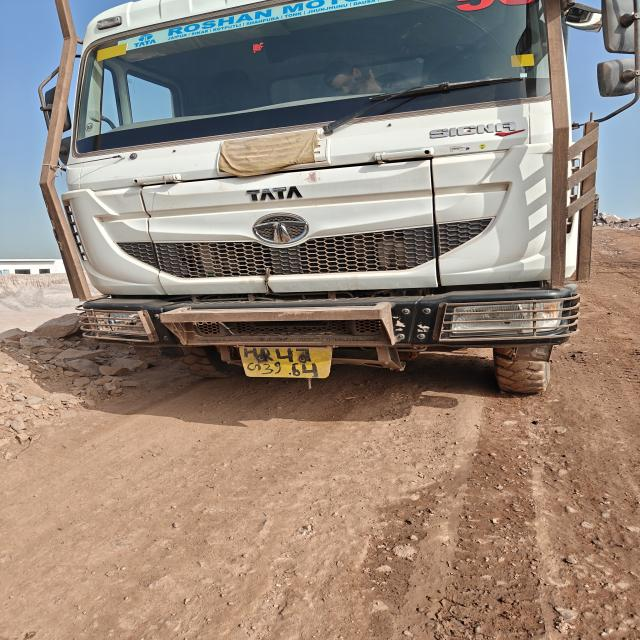license_plate: (240, 347, 332, 378)
